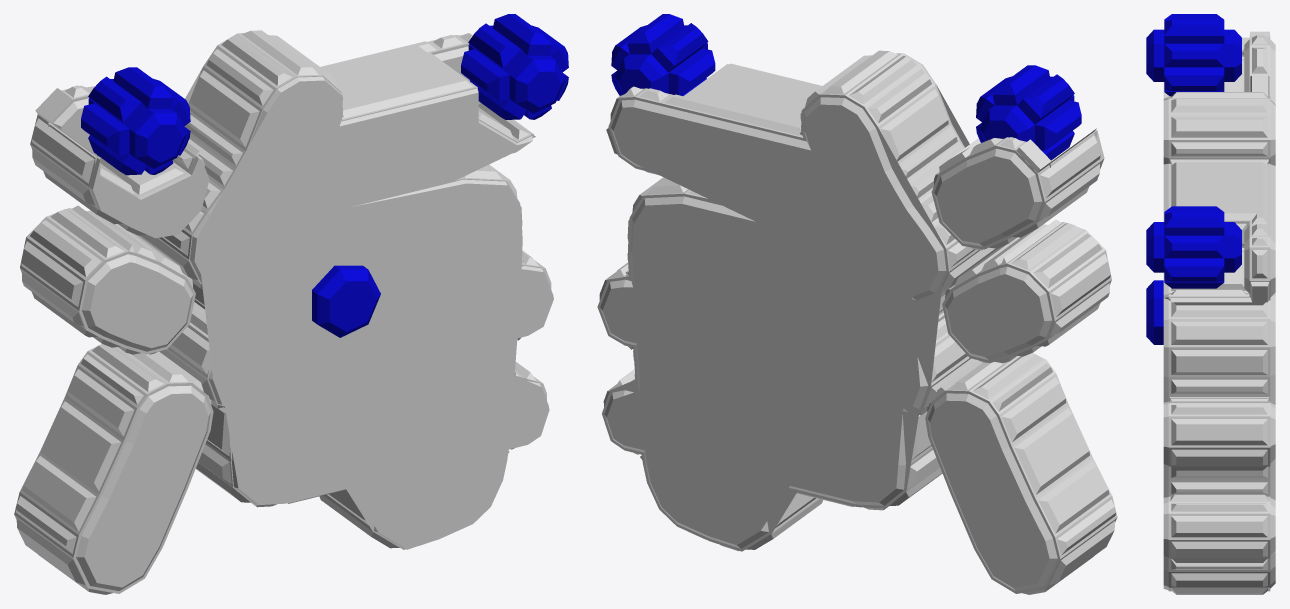
The model's file is Ch_China_海_01.fbx.
3 views of the same model, side by side, from view 1: azimuth 30°, elevation 25°; view 2: azimuth 150°, elevation 25°; view 3: azimuth 270°, elevation 25° (orthographic). The views are drawn at different scales.
Parts seen in each view (by area): view 1: sphere1; view 2: sphere1; view 3: sphere1.
Part boxes in pixels (left/top/right/bottom): sphere1: left=14, top=14, right=568, bottom=594; sphere1: left=597, top=14, right=1117, bottom=594; sphere1: left=1146, top=14, right=1275, bottom=594.
Bounding box in the file's own units: 0.9721 × 0.9812 × 0.2541.
